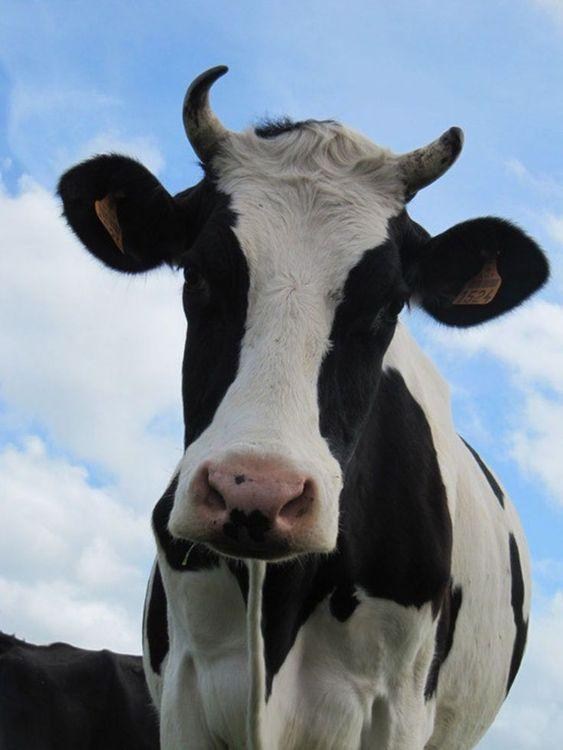cow: (58, 32, 484, 602)
